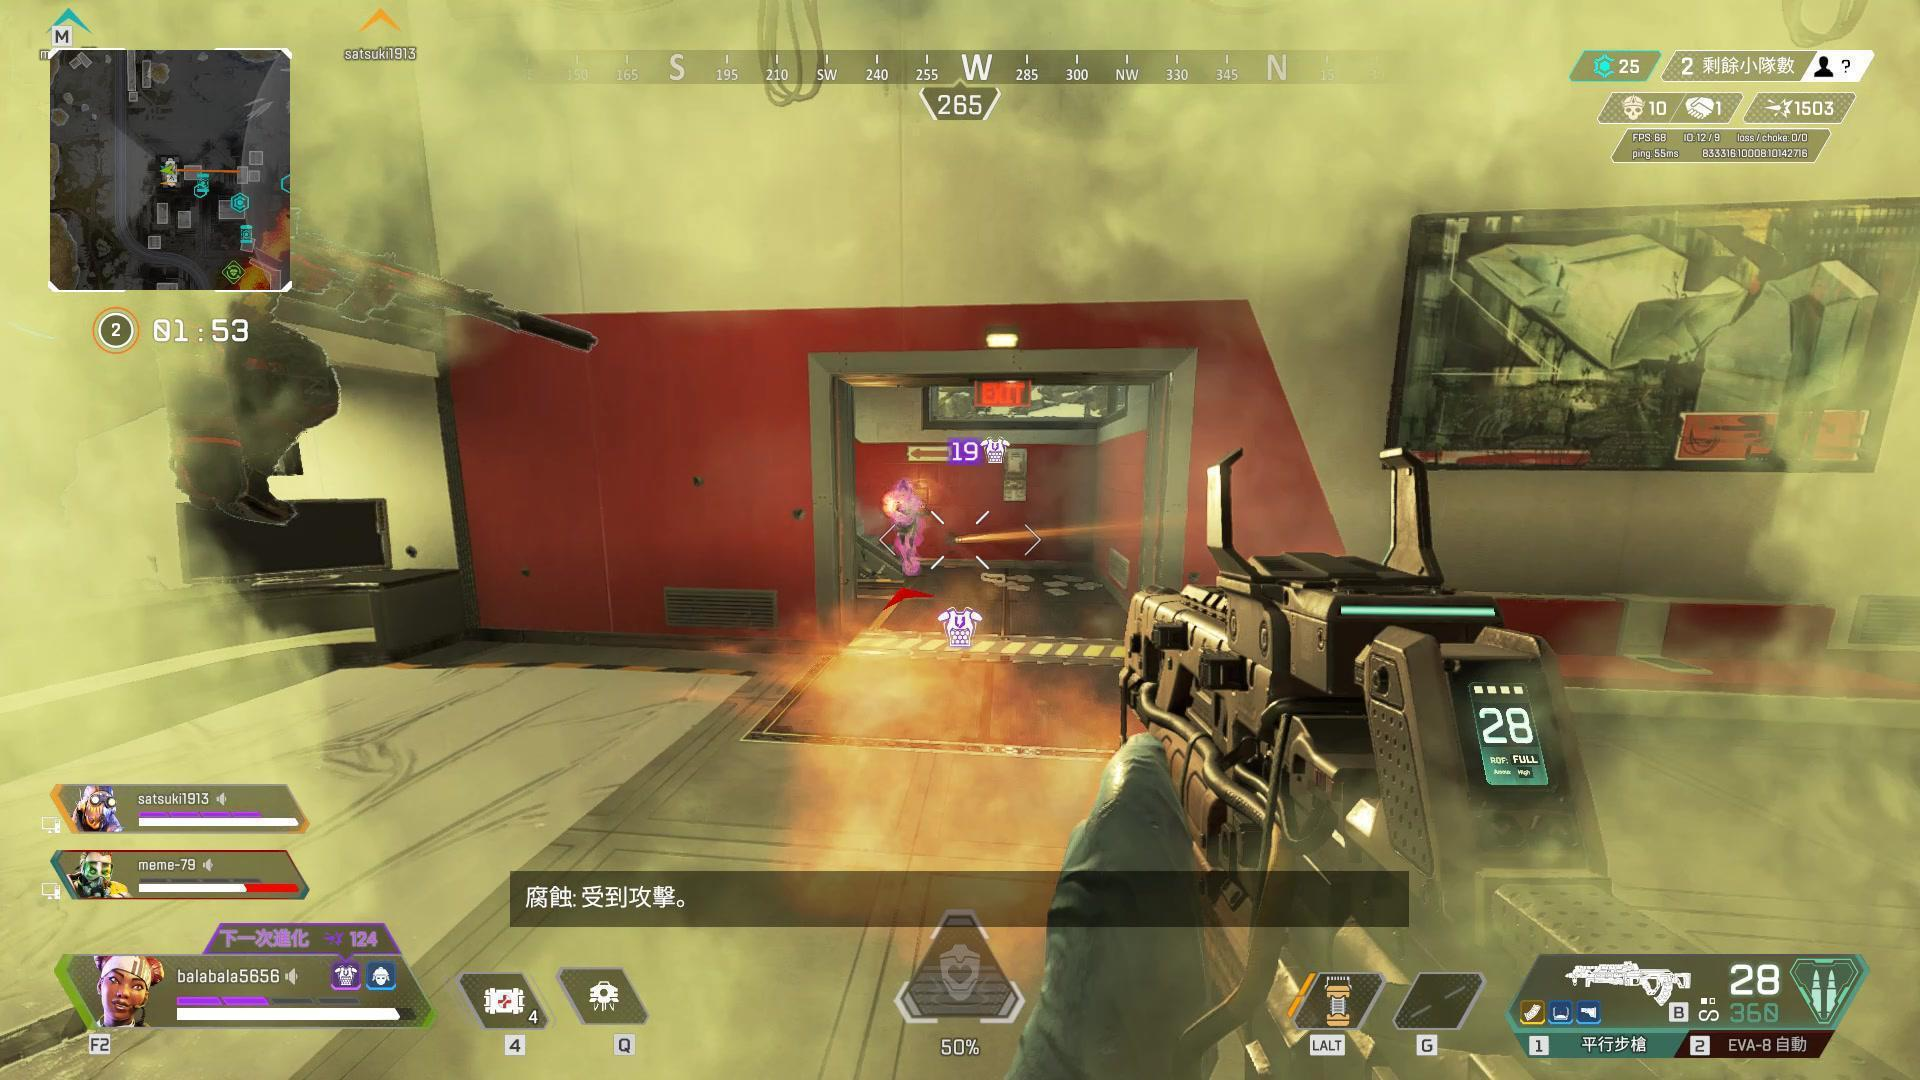avatar: (881, 477, 929, 576)
